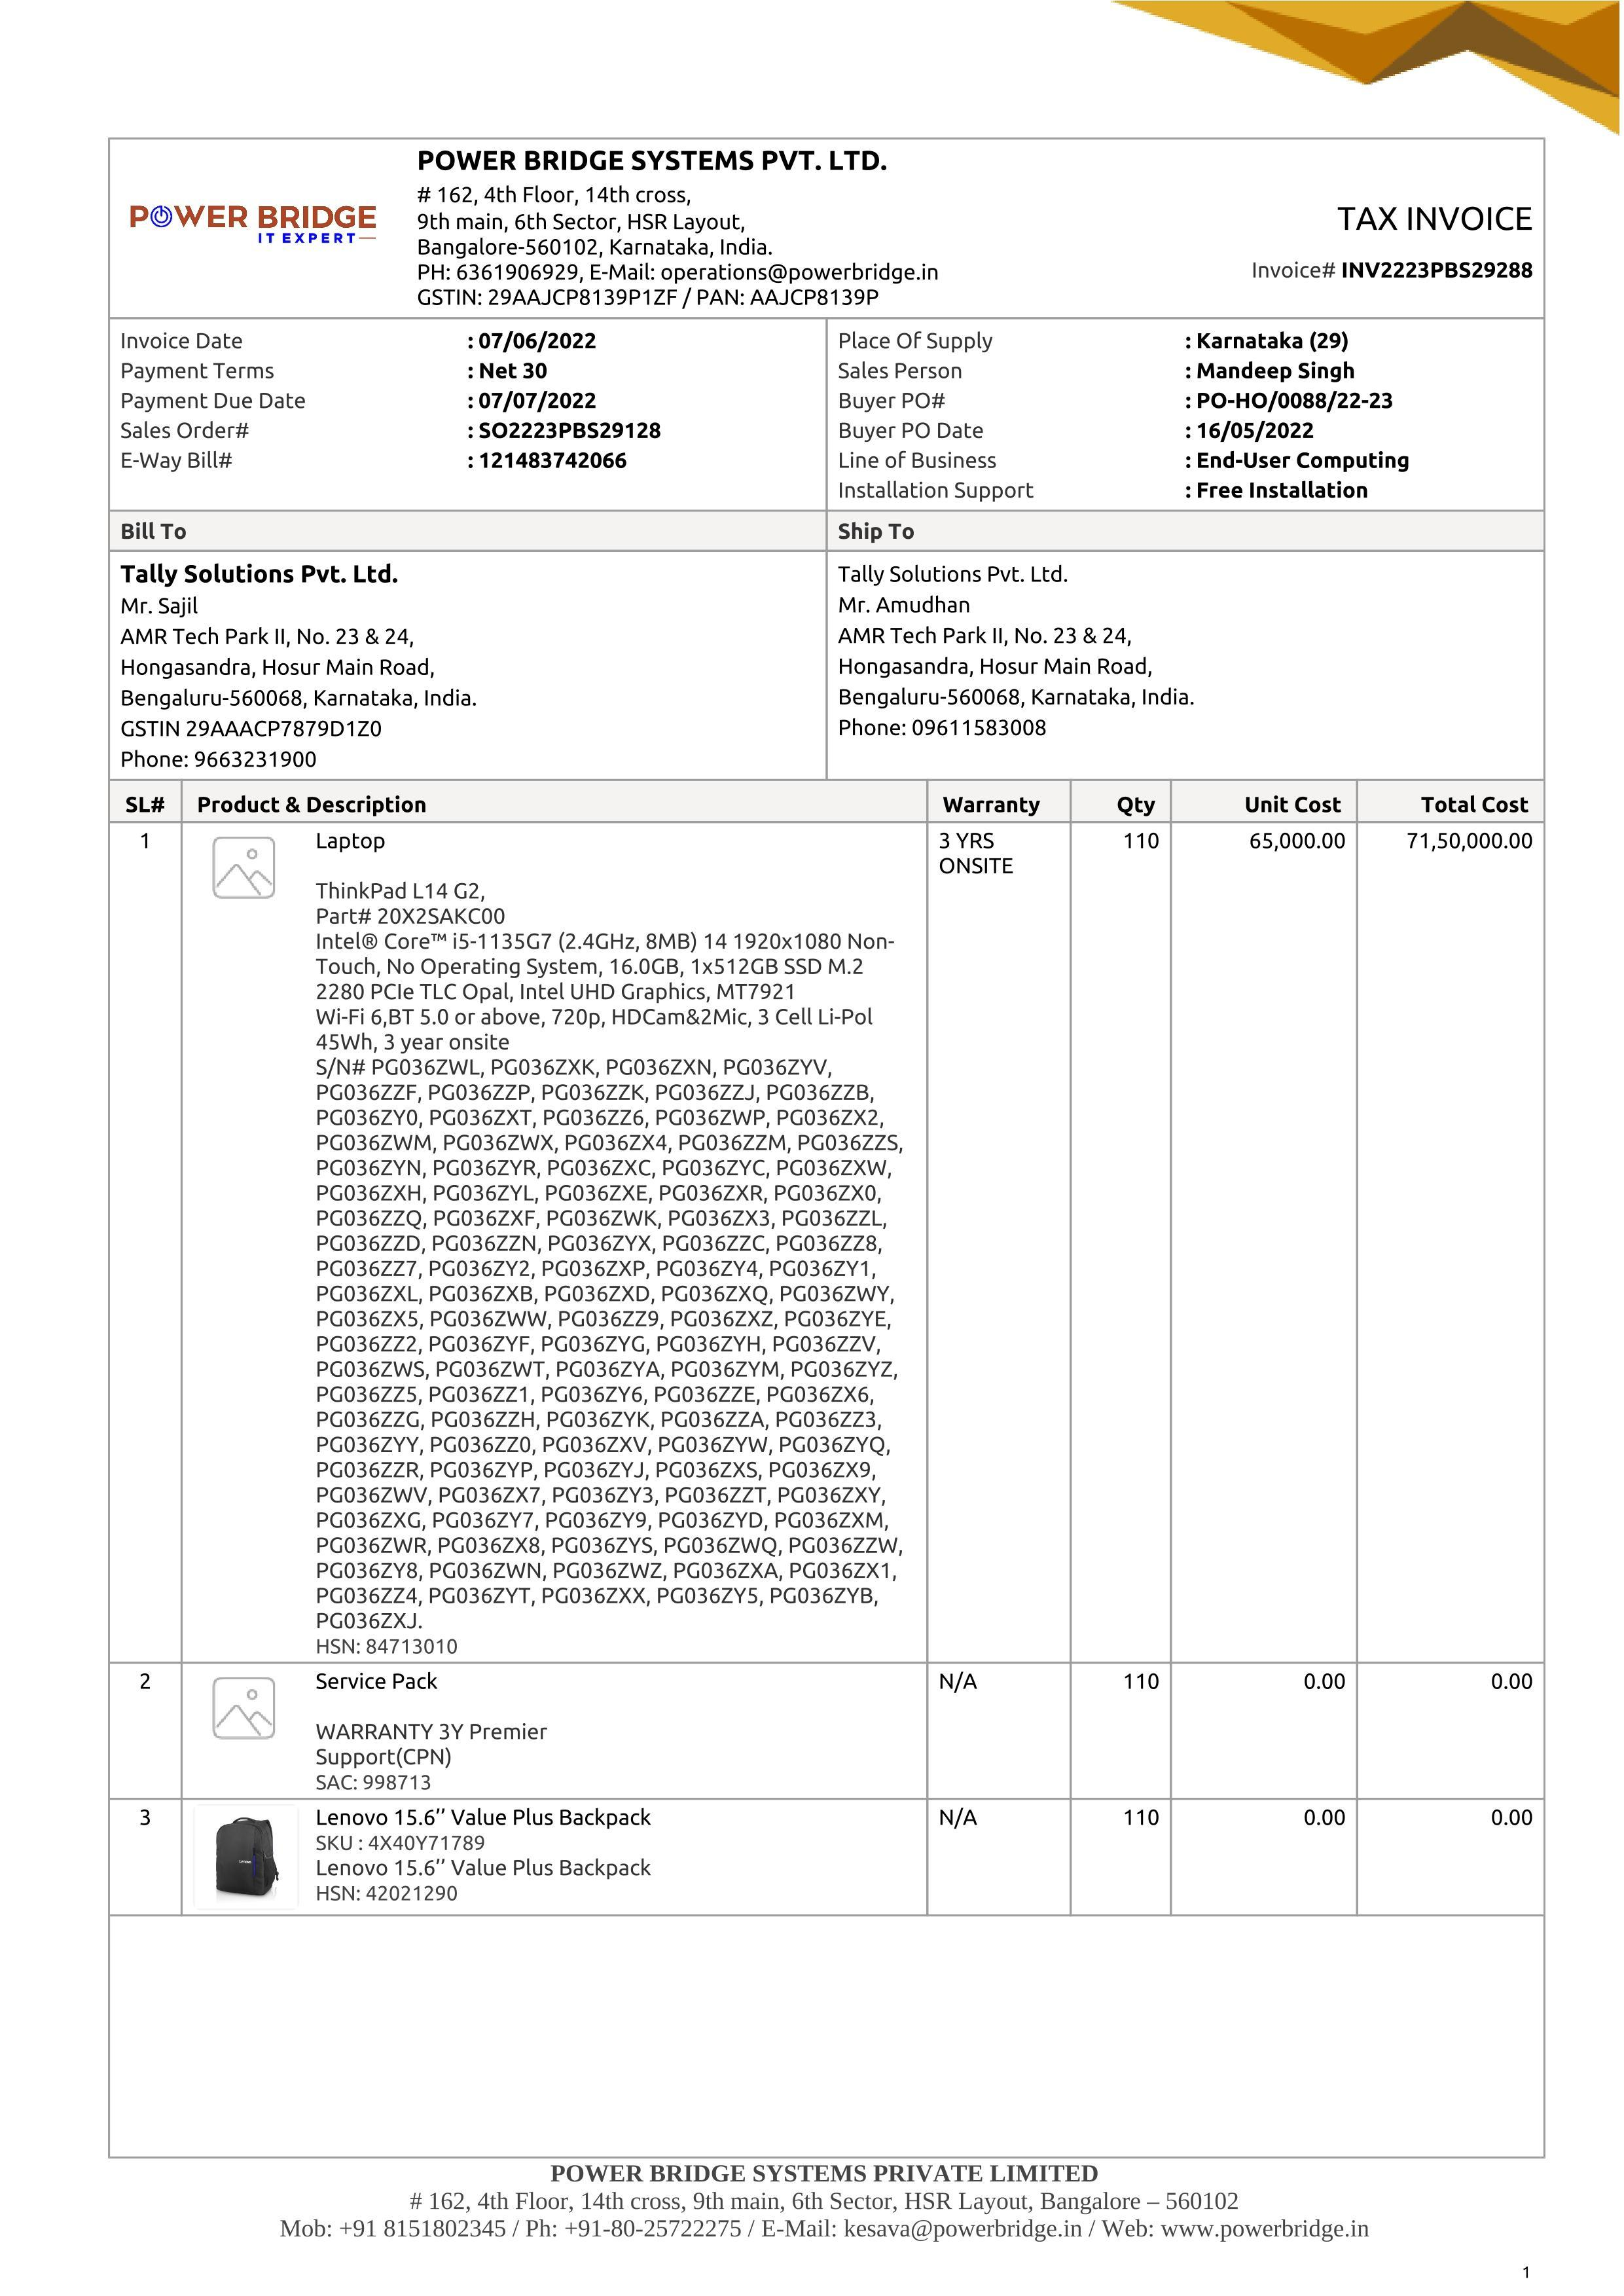InvoiceDate: (473, 325, 601, 353)
InvoiceNumber: (1338, 257, 1536, 285)
TotalAmount: (1396, 823, 1545, 863)
